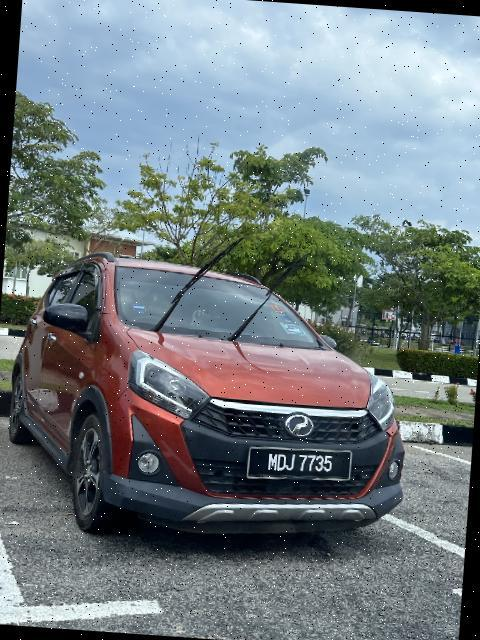License_Plate: (246, 442, 358, 489)
MDJ7735: (246, 442, 358, 489)
car: (1, 252, 426, 556)
